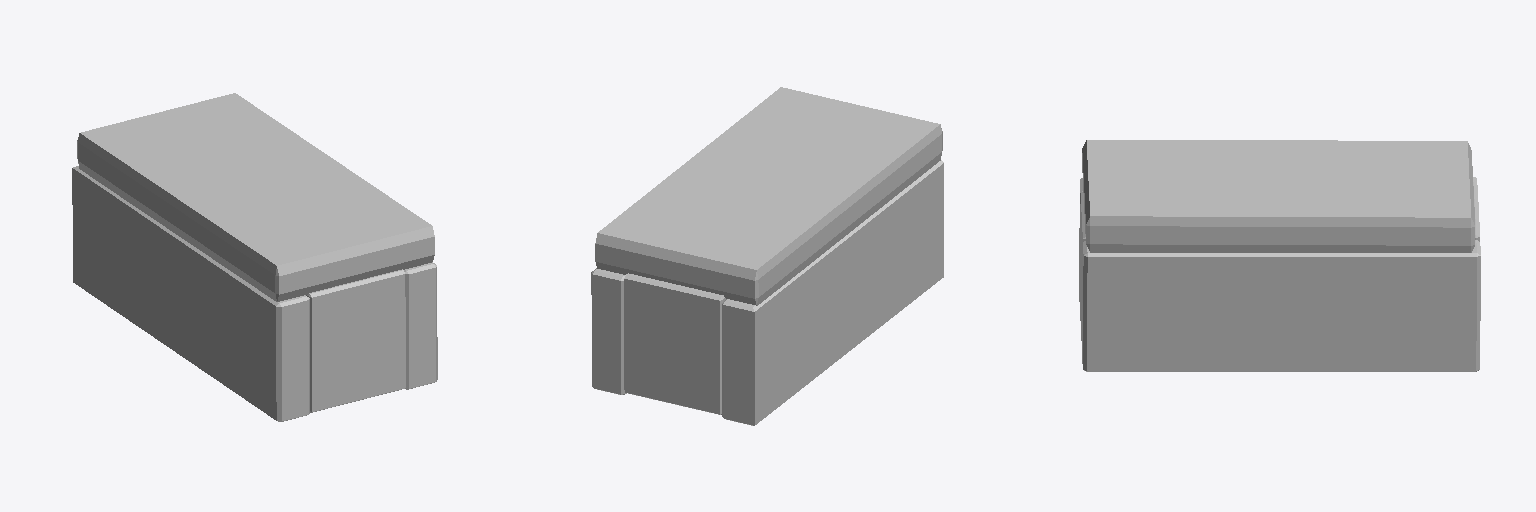
The model's file is Chest1.obj.
3 views of the same model, side by side, from view 1: azimuth 30°, elevation 25°; view 2: azimuth 150°, elevation 25°; view 3: azimuth 270°, elevation 25° (orthographic).
Parts seen in each view (by area): view 1: Chest1; view 2: Chest1; view 3: Chest1.
Boxes of the visible parts, box(x1,y1,x2,y2) form: Chest1: box(72, 93, 437, 421); Chest1: box(591, 87, 943, 425); Chest1: box(1079, 140, 1480, 371).
Size of the model in its own units: 3.3 by 2.95 by 6.74.